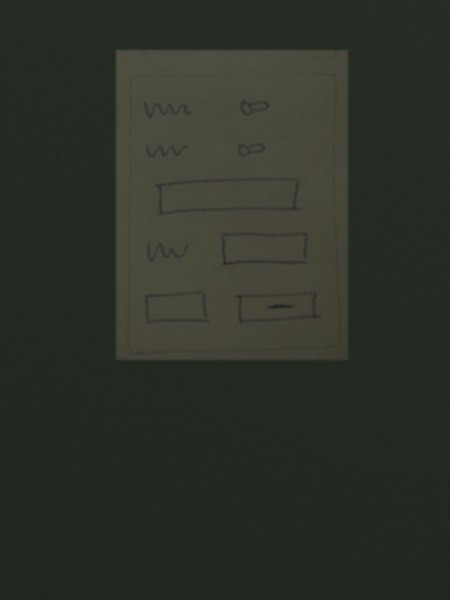button: (231, 287, 327, 328)
switch: (235, 93, 276, 119), (233, 135, 271, 159)
text: (141, 236, 193, 264), (142, 97, 196, 123), (142, 137, 193, 159)
text_input: (147, 175, 310, 220), (216, 226, 313, 270), (141, 287, 214, 330)
